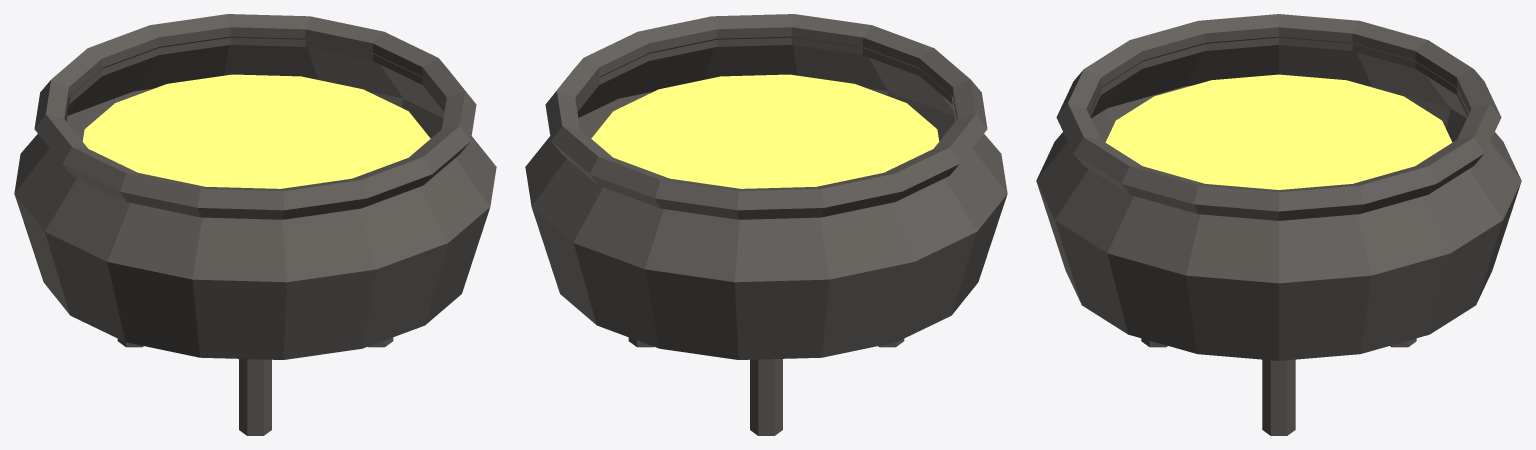
The model's file is cauldron_amber.glb.
The picture shows the model from 3 angles, left to right: view 1: azimuth 30°, elevation 25°; view 2: azimuth 150°, elevation 25°; view 3: azimuth 270°, elevation 25°; orthographic projection.
Parts seen in each view (by area): view 1: cauldron_amber; view 2: cauldron_amber; view 3: cauldron_amber.
Boxes of the visible parts, x1=… form: cauldron_amber: x1=14, y1=14, x2=496, y2=435; cauldron_amber: x1=525, y1=14, x2=1007, y2=435; cauldron_amber: x1=1036, y1=14, x2=1521, y2=435.
Size of the model in its own units: 1.32 by 0.8028 by 1.32.
